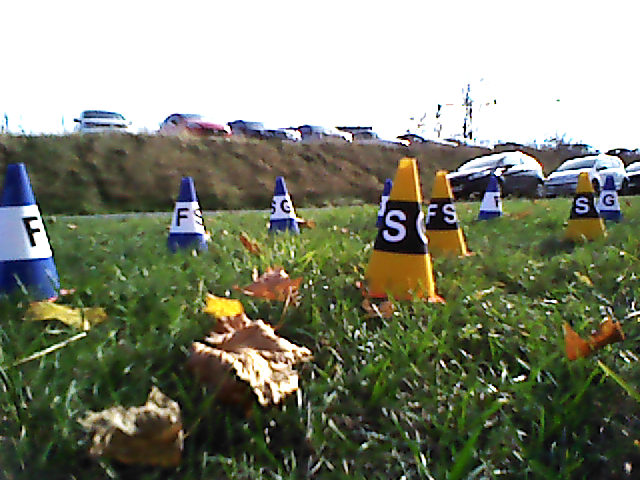bluecone: (1, 163, 57, 297), (168, 178, 209, 252), (269, 176, 296, 233), (479, 176, 504, 221), (601, 177, 624, 223)
yellowcone: (363, 159, 433, 292), (427, 171, 464, 256), (565, 174, 605, 239)
